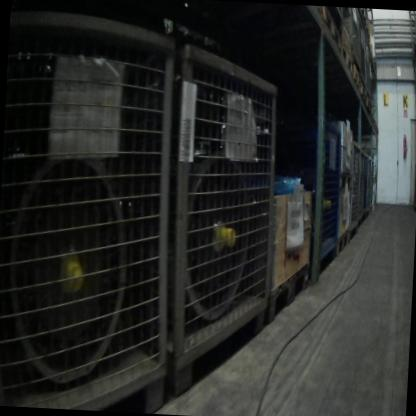pallet: (267, 263, 311, 320), (319, 8, 345, 62), (343, 42, 357, 80), (334, 228, 350, 261), (352, 65, 364, 92)
stillage: (0, 9, 182, 405), (106, 26, 287, 397), (275, 105, 343, 276), (344, 134, 361, 243), (336, 9, 364, 68), (354, 144, 366, 228), (360, 38, 376, 98), (359, 150, 371, 222), (357, 14, 369, 81), (319, 6, 347, 26), (367, 154, 375, 213)
